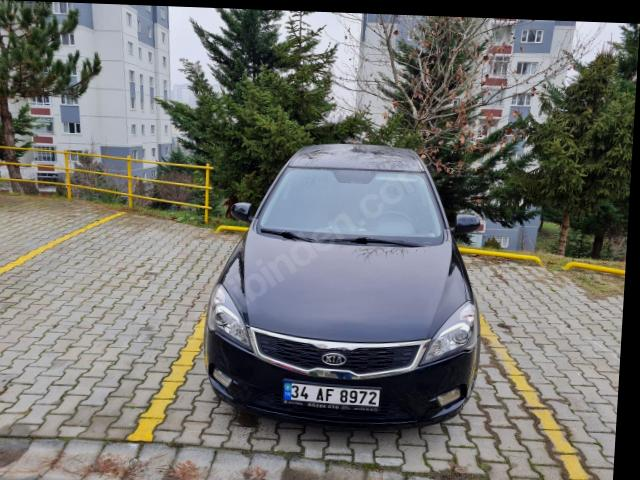plaka: (283, 381, 381, 411)
